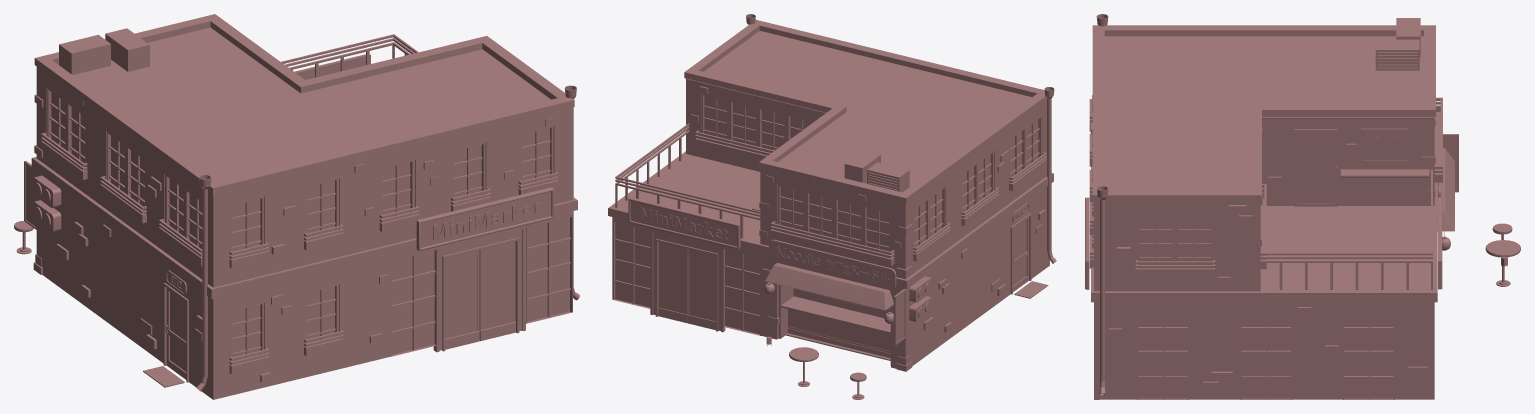
The model's file is noodles_table.fbx.
The picture shows the model from 3 angles, left to right: view 1: azimuth 30°, elevation 25°; view 2: azimuth 150°, elevation 25°; view 3: azimuth 270°, elevation 25°; orthographic projection. The views are drawn at different scales.
Visible parts, largest first — view 1: Object008, Object014, Object016, Object018, Object005, Object013, Object054, separated_455, separated_458, separated_621, Object001, Object004 (+29 smaller); view 2: Object008, Object018, Object005, Object011, Object013, separated_436, Object017, Object039, separated_447, separated_420, Object009, Object004 (+41 smaller); view 3: Object008, Object015, Object011, Object012, Object010, Object005, separated_434, separated_437, separated_442, separated_450, Object001, Object004 (+20 smaller).
Boxes of the visible parts, box(x1,y1,x2,y2) form: Object008: box(58, 27, 550, 180); Object014: box(213, 107, 572, 287); Object016: box(213, 211, 572, 399); Object018: box(36, 171, 213, 399); Object005: box(35, 14, 574, 187); Object013: box(36, 67, 213, 287); Object054: box(445, 242, 515, 338); separated_455: box(391, 248, 437, 356); separated_458: box(526, 215, 572, 323); separated_621: box(416, 187, 553, 251); Object001: box(31, 158, 577, 299); Object004: box(34, 58, 574, 195); Object008: box(704, 31, 1031, 186); Object018: box(905, 187, 1049, 365); Object005: box(684, 20, 1045, 197); Object011: box(612, 154, 760, 243); Object013: box(905, 101, 1046, 278); separated_436: box(781, 288, 890, 360); Object017: box(760, 168, 905, 279); Object039: box(658, 242, 715, 321); separated_447: box(722, 246, 760, 335); separated_420: box(613, 219, 650, 308); Object009: box(686, 79, 825, 171); Object004: box(684, 72, 1046, 203); Object008: box(1104, 36, 1423, 190); Object015: box(1094, 302, 1434, 399); Object011: box(1260, 206, 1434, 291); Object012: box(1094, 202, 1260, 291); Object010: box(1262, 117, 1434, 205); Object005: box(1092, 25, 1435, 195); separated_434: box(1137, 306, 1188, 399); separated_437: box(1343, 306, 1394, 399); separated_442: box(1240, 306, 1291, 399); separated_450: box(1293, 129, 1337, 206); Object001: box(1091, 293, 1437, 302); Object004: box(1092, 110, 1435, 202).
Size of the model in its own units: 28.8 by 16.77 by 28.67.
